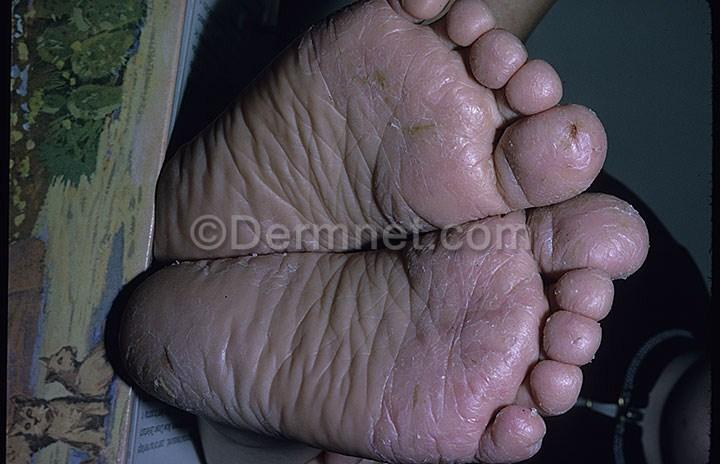Eczema: (127, 324, 216, 401), (369, 60, 436, 148), (459, 296, 502, 384), (556, 125, 592, 173), (405, 383, 430, 411), (416, 328, 432, 356)
